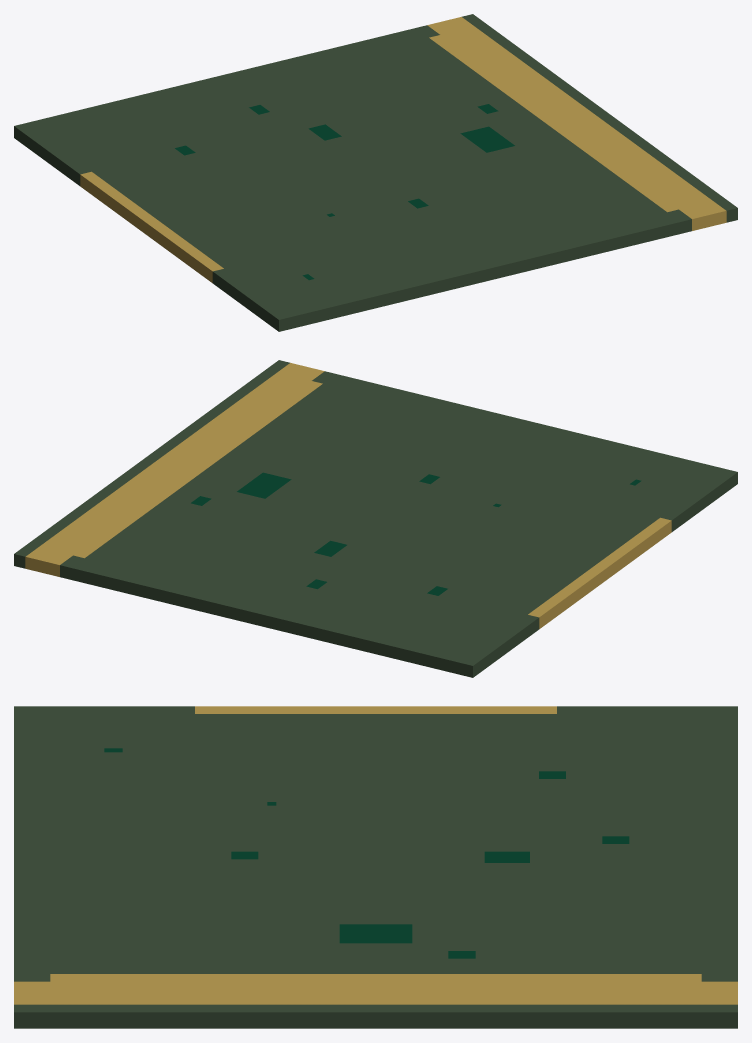
Rendered from Free Sample-5-Street-8.obj.
The picture shows the model from 3 angles, top to bottom: view 1: azimuth 30°, elevation 25°; view 2: azimuth 150°, elevation 25°; view 3: azimuth 270°, elevation 25°; orthographic projection. The views are drawn at different scales.
Parts seen in each view (by area): view 1: Street-8; view 2: Street-8; view 3: Street-8.
Part boxes in pixels (x1,y1,x2,y2): Street-8: (14,14,737,331); Street-8: (14,360,737,677); Street-8: (14,706,737,1028).
Size of the model in its own units: 1.6 by 0.04 by 1.6.
Materials: 1 (1 with a texture image).
